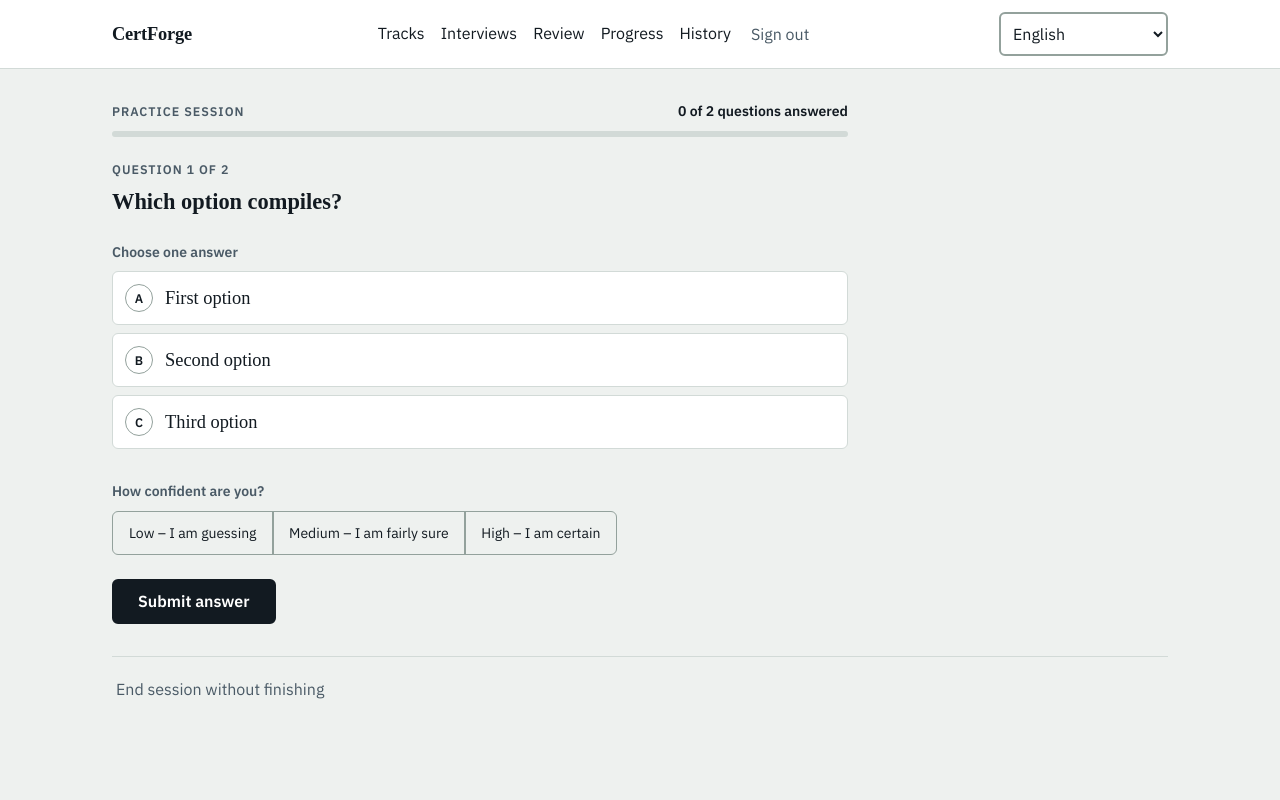
it: finishing › asks before ending a session early
Expected: the heading "Question 1 of 2" is shown, [112, 161, 230, 177]
Click the button "End session without finishing". click: (220,689)
box: [112, 673, 328, 706]
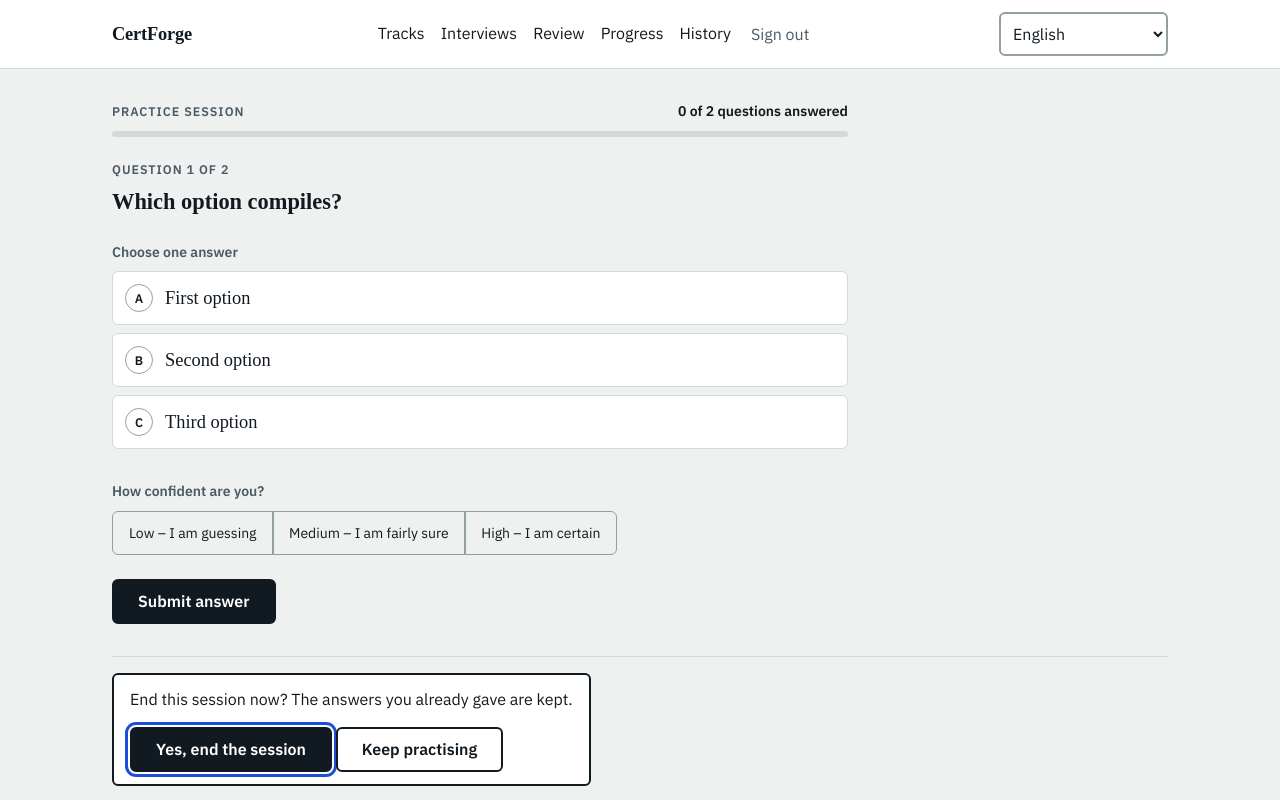
Click the button "Yes, end the session". click: (231,750)
box: [130, 728, 332, 772]
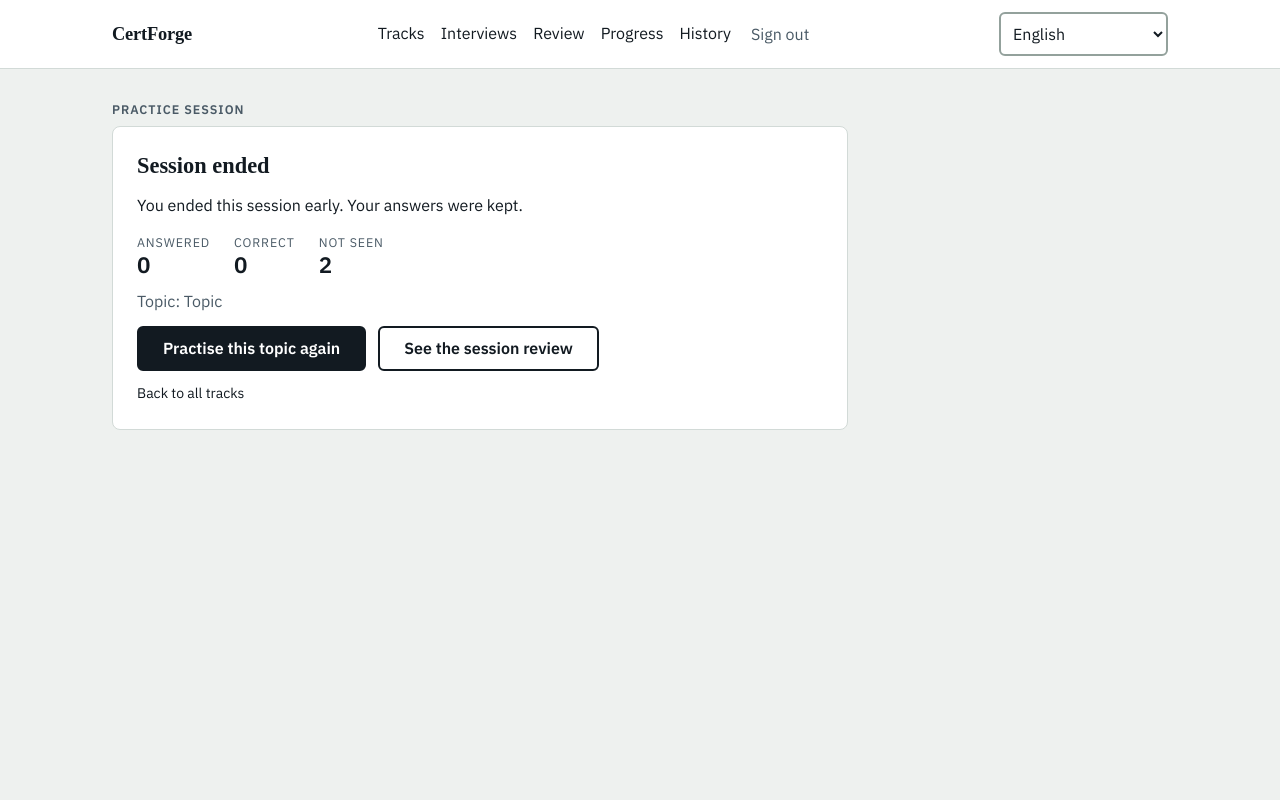
Expected: the heading "Session ended" is shown, [137, 152, 270, 181]
